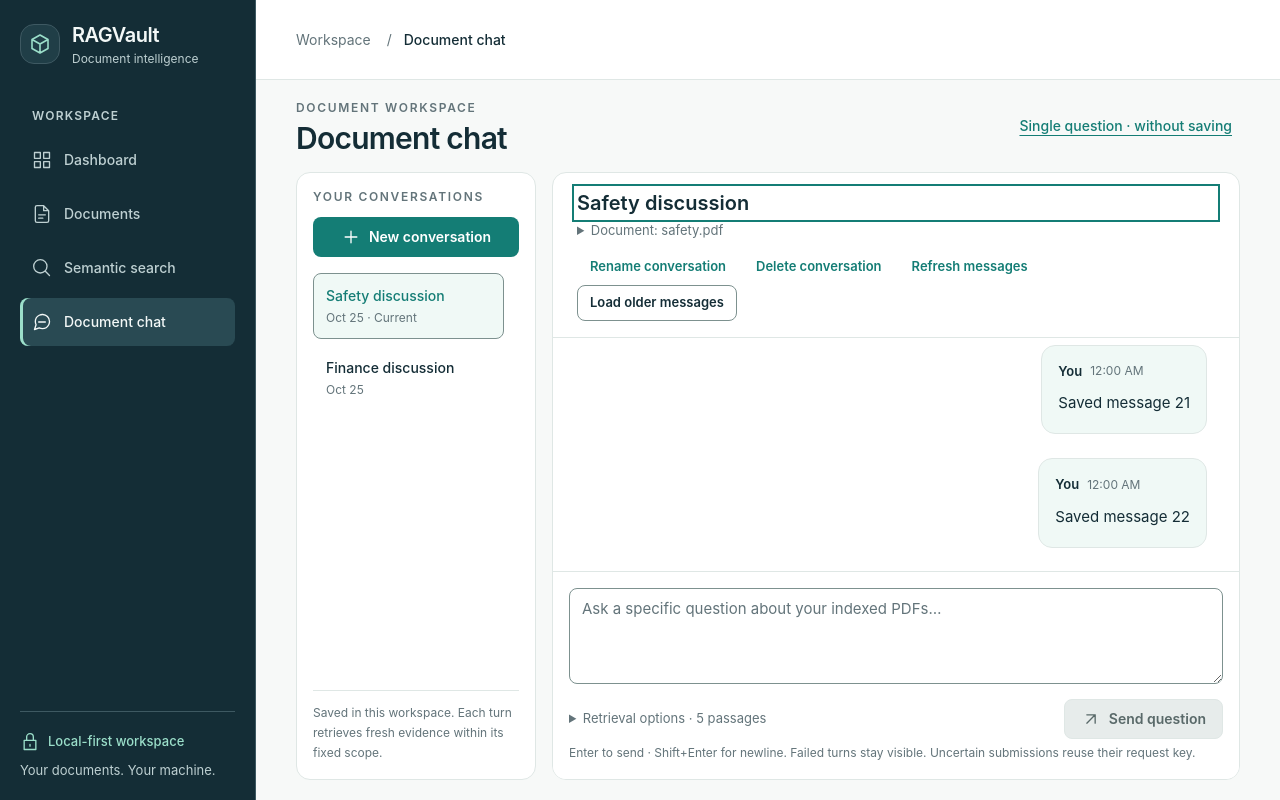
Saved conversations › loads older pages in stable message order without duplicate rows
(page scrolled)
Step 1. Click the button "Load older messages" → (657, 302), box [577,284,737,320]
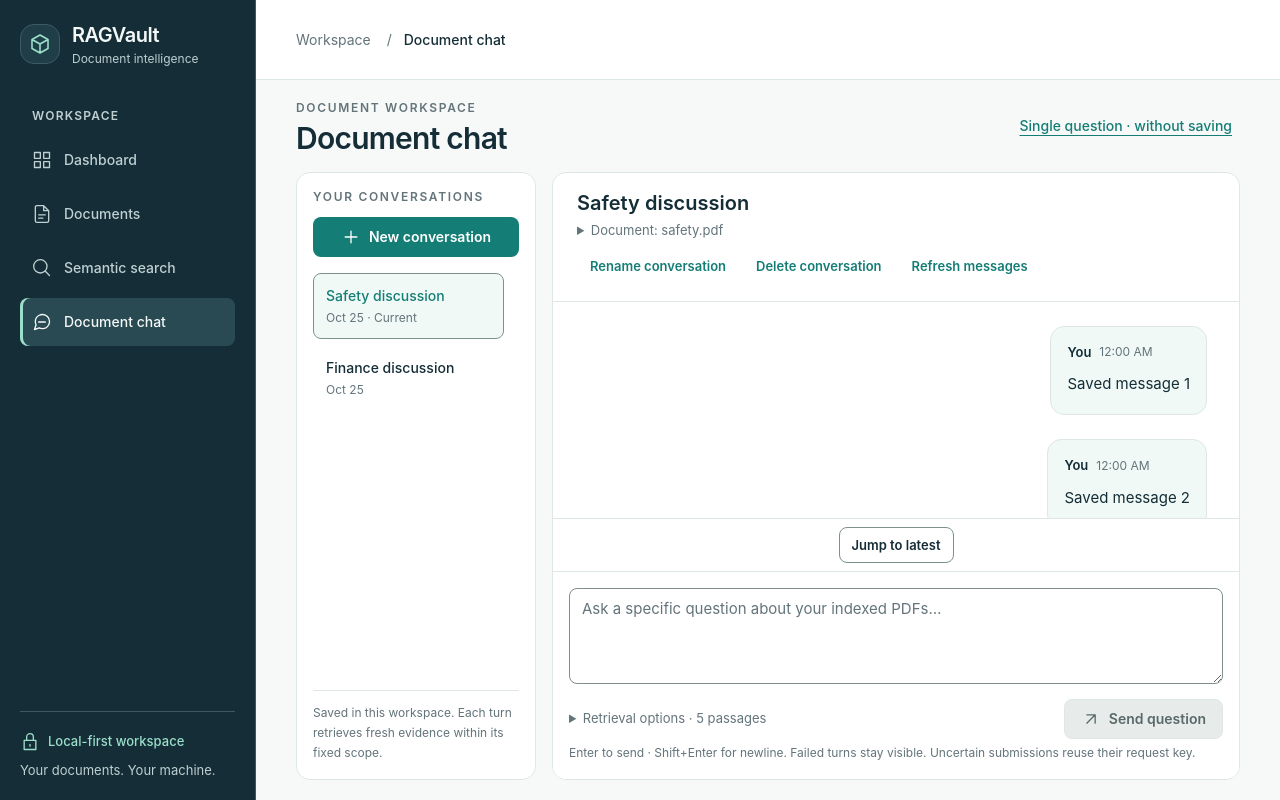
Result: the text "Saved message 1" is shown at [1068,370,1190,398]
